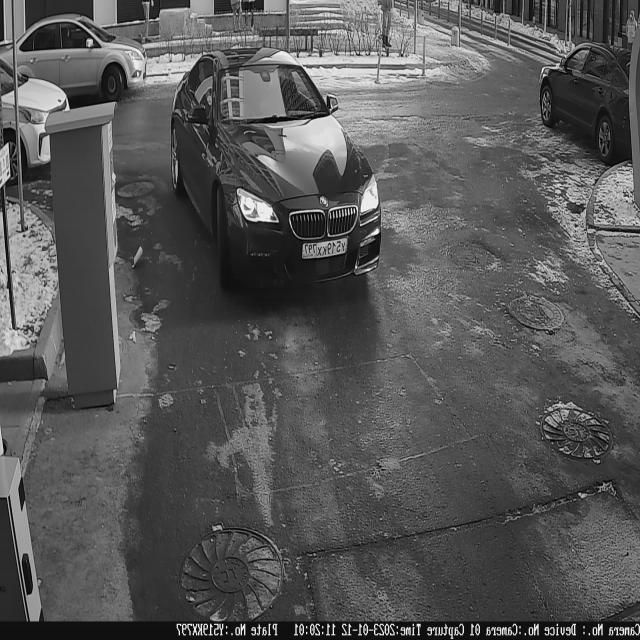car-plate-numbers: (301, 234, 355, 264)
